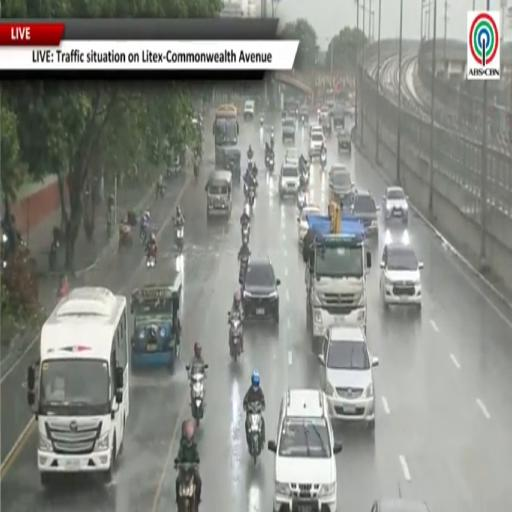bus: (27, 287, 129, 485)
car: (268, 390, 341, 511), (319, 325, 378, 429), (380, 239, 423, 309), (243, 256, 280, 324), (350, 190, 379, 236), (329, 164, 354, 204), (383, 186, 408, 225), (297, 205, 320, 244), (371, 498, 429, 511), (279, 164, 300, 198), (309, 128, 324, 158), (337, 130, 351, 154), (282, 119, 295, 142), (285, 148, 300, 165), (244, 100, 255, 120), (309, 123, 323, 137), (300, 105, 309, 124)
jeepney: (131, 267, 183, 369), (206, 170, 232, 218)
motorcycle: (175, 459, 198, 511), (248, 403, 262, 465), (191, 373, 205, 426), (228, 312, 242, 361), (119, 223, 133, 249), (48, 240, 58, 271), (168, 156, 181, 178), (297, 188, 306, 212), (176, 226, 184, 252), (146, 249, 156, 268), (242, 222, 250, 245), (300, 167, 309, 186), (193, 157, 200, 179), (248, 185, 255, 207), (140, 226, 148, 245), (156, 184, 165, 200), (146, 254, 155, 268), (268, 153, 274, 172), (320, 150, 326, 169), (265, 153, 269, 169), (259, 116, 264, 127), (301, 115, 305, 125)
truck: (305, 205, 371, 342), (213, 104, 241, 181)
